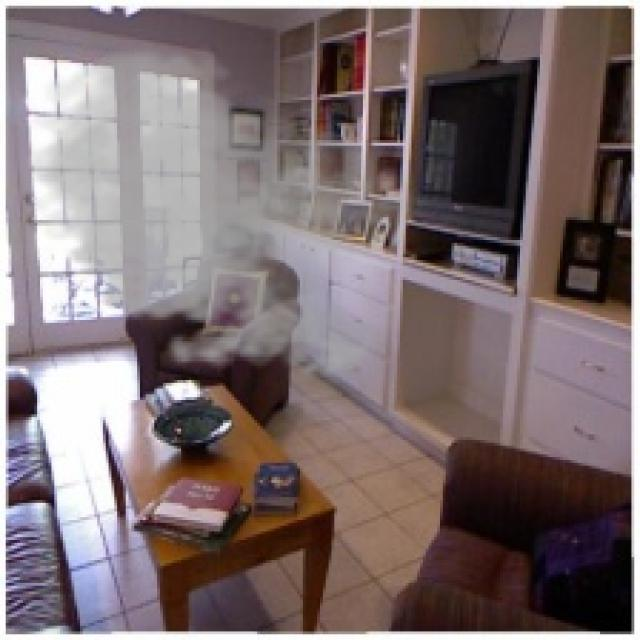Smoke: (14, 40, 417, 389)
